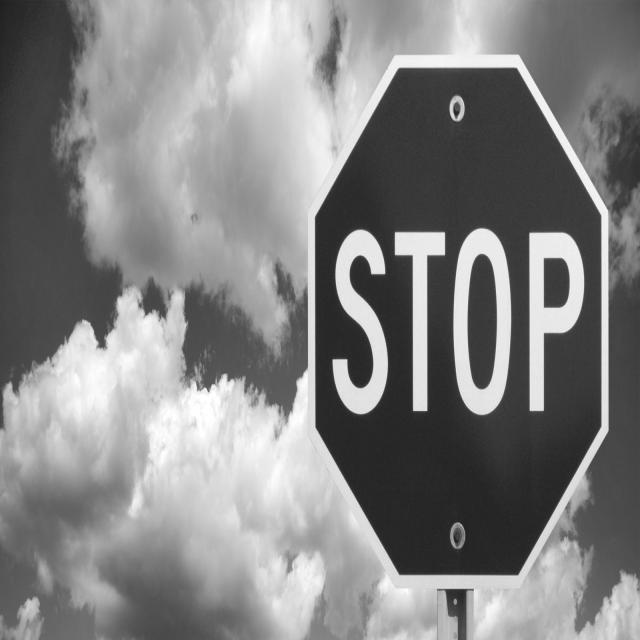Stop-sign: (281, 19, 627, 603)
